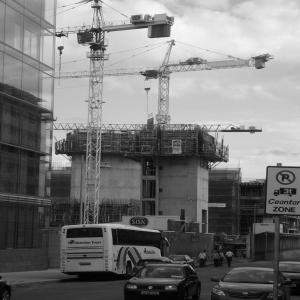Vehicle-registration-plate: (142, 292, 160, 296)
